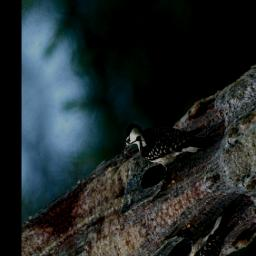Woodpecker: (115, 74, 221, 200)
